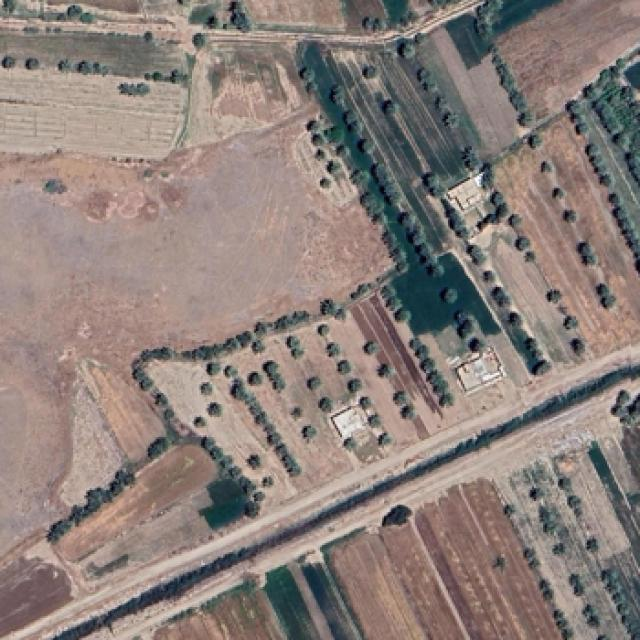artifacts: (310, 295, 514, 457)
ruins: (130, 352, 297, 518), (188, 41, 302, 151), (424, 509, 520, 635), (25, 161, 186, 225), (564, 455, 632, 584), (69, 99, 175, 153), (106, 35, 183, 80)
vegetation: (311, 117, 430, 281), (573, 57, 638, 164), (48, 466, 132, 542), (491, 50, 532, 129), (203, 0, 250, 34)
